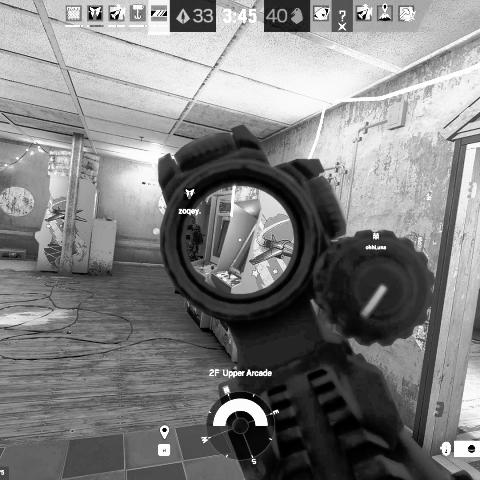Character: (184, 215, 204, 262)
Friend_label: (178, 187, 202, 215), (365, 231, 387, 250)
Head: (188, 215, 196, 225)
